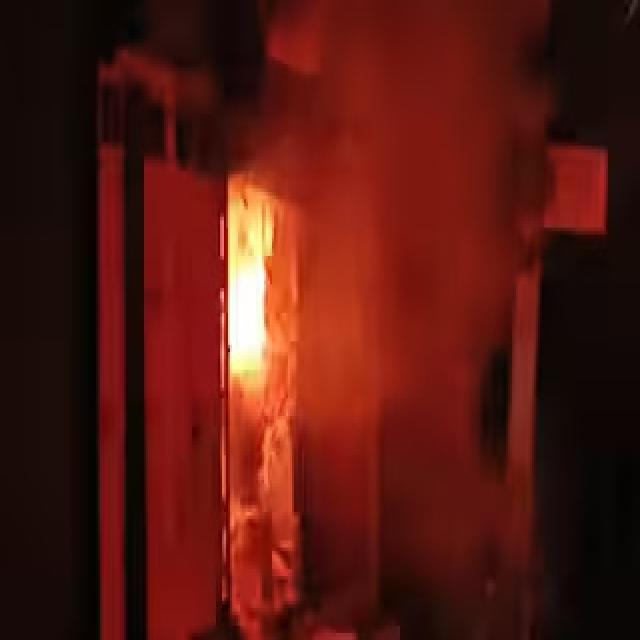fire: (229, 181, 273, 373)
